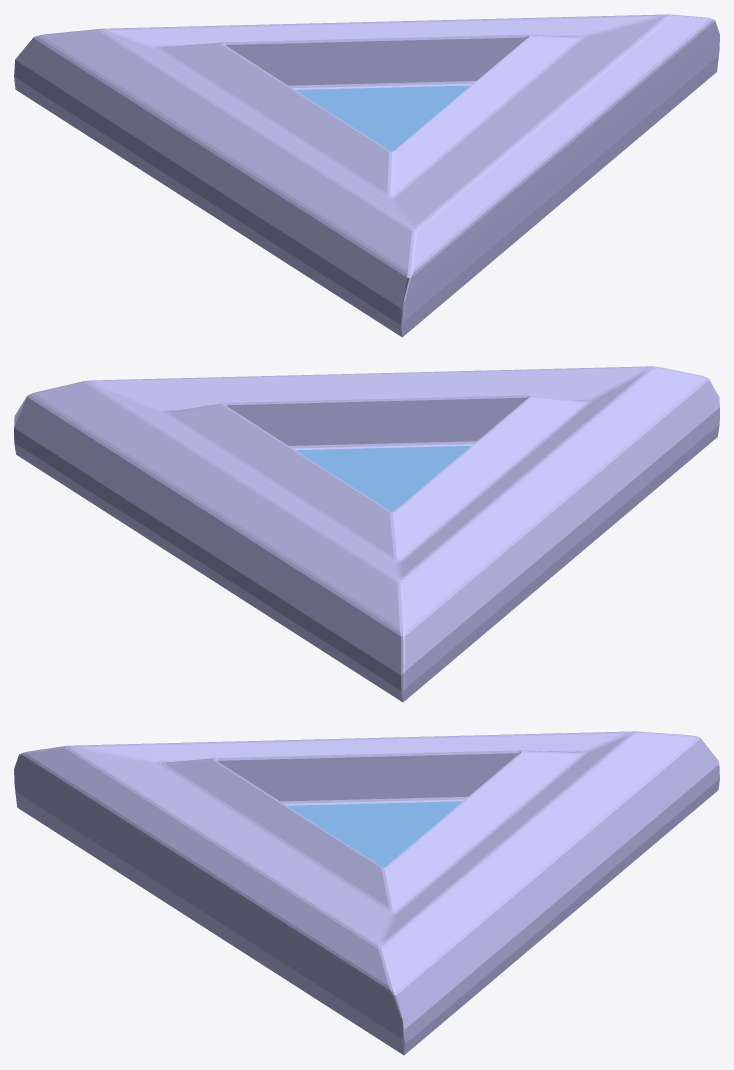
The model's file is Extra 3.fbx.
3 renders of one model, top to bottom at view 1: azimuth 30°, elevation 25°; view 2: azimuth 150°, elevation 25°; view 3: azimuth 270°, elevation 25°, orthographic.
Visible parts, largest first — view 1: Circle; view 2: Circle; view 3: Circle.
Part boxes in pixels (x1,y1,x2,y2): Circle: [14, 14, 719, 337]; Circle: [14, 366, 719, 702]; Circle: [14, 731, 719, 1055].
Bounding box in the file's own units: 517 × 83.02 × 576.
